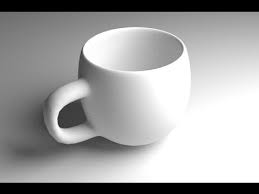cup: (38, 25, 198, 151)
